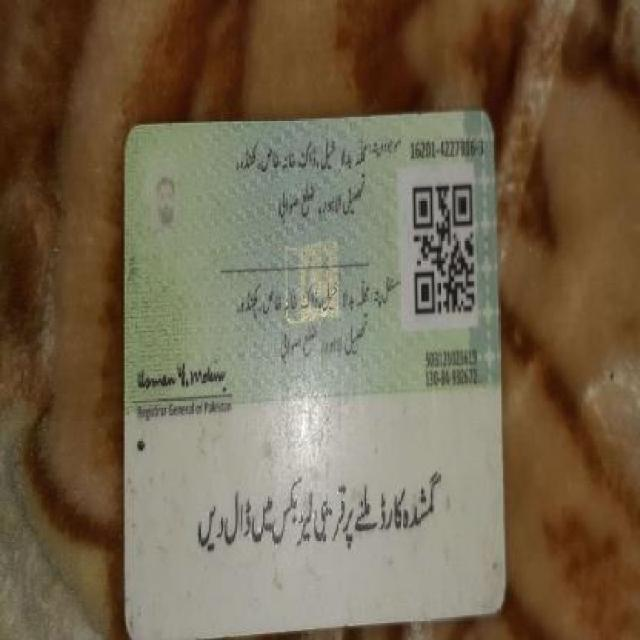Back: (117, 100, 511, 625)
